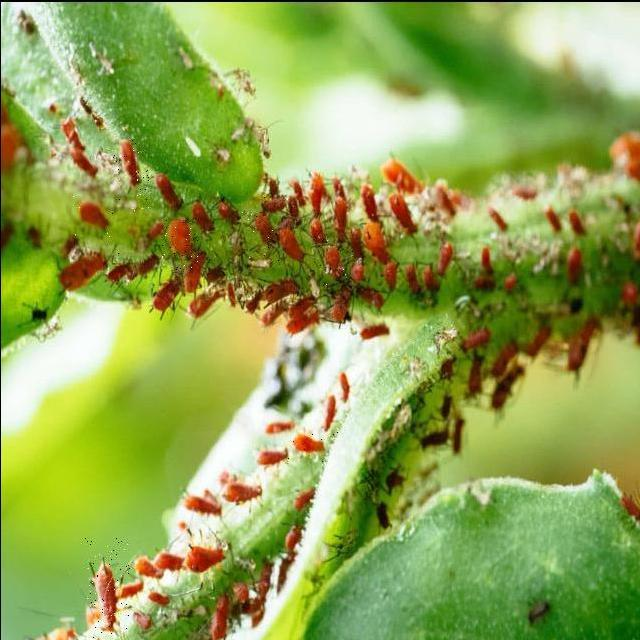aphid: (84, 536, 129, 640), (39, 241, 110, 302), (71, 187, 120, 254), (110, 135, 148, 210), (241, 195, 279, 261), (161, 212, 201, 270), (281, 428, 342, 464), (310, 232, 352, 283), (388, 192, 418, 234), (362, 220, 391, 263), (154, 172, 183, 212), (361, 183, 379, 221), (217, 199, 240, 227), (566, 247, 583, 284), (333, 193, 348, 234), (329, 295, 349, 325), (568, 210, 586, 237), (423, 265, 439, 293), (310, 218, 325, 246)
